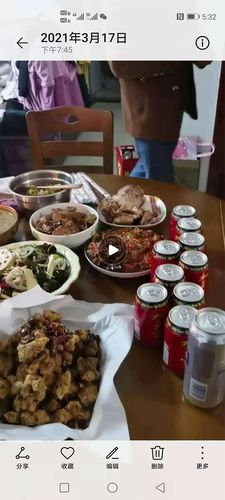food: (0, 299, 124, 429), (3, 236, 78, 295), (85, 222, 159, 275), (29, 197, 99, 247), (95, 179, 162, 227), (10, 166, 74, 215)
